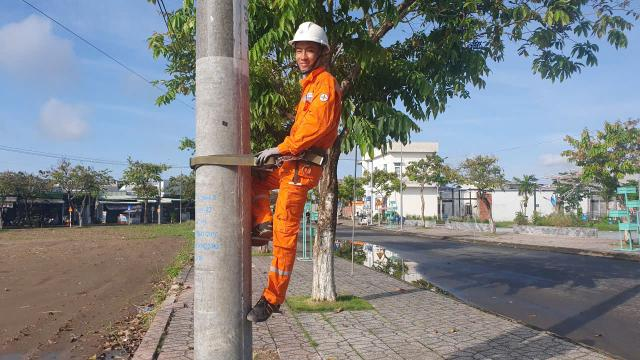gloves: (256, 147, 288, 160)
harness: (172, 138, 334, 174)
helmet: (287, 15, 338, 50)
shoes: (244, 280, 284, 324), (246, 226, 284, 246)
